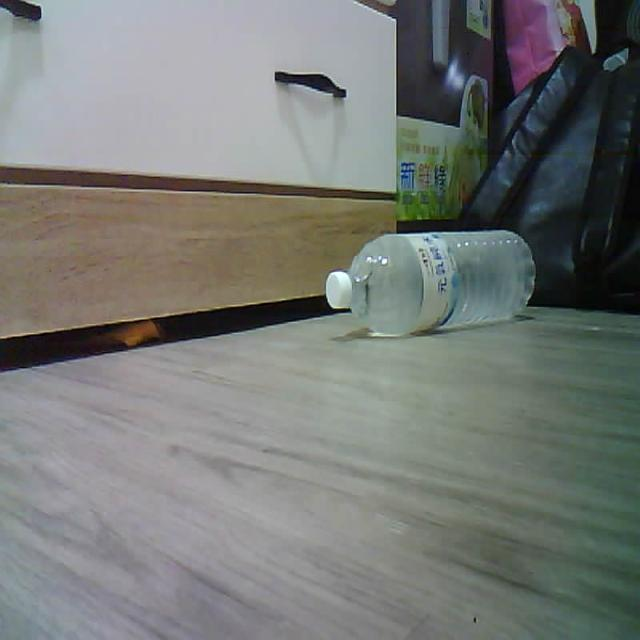bottle: (326, 230, 535, 335)
